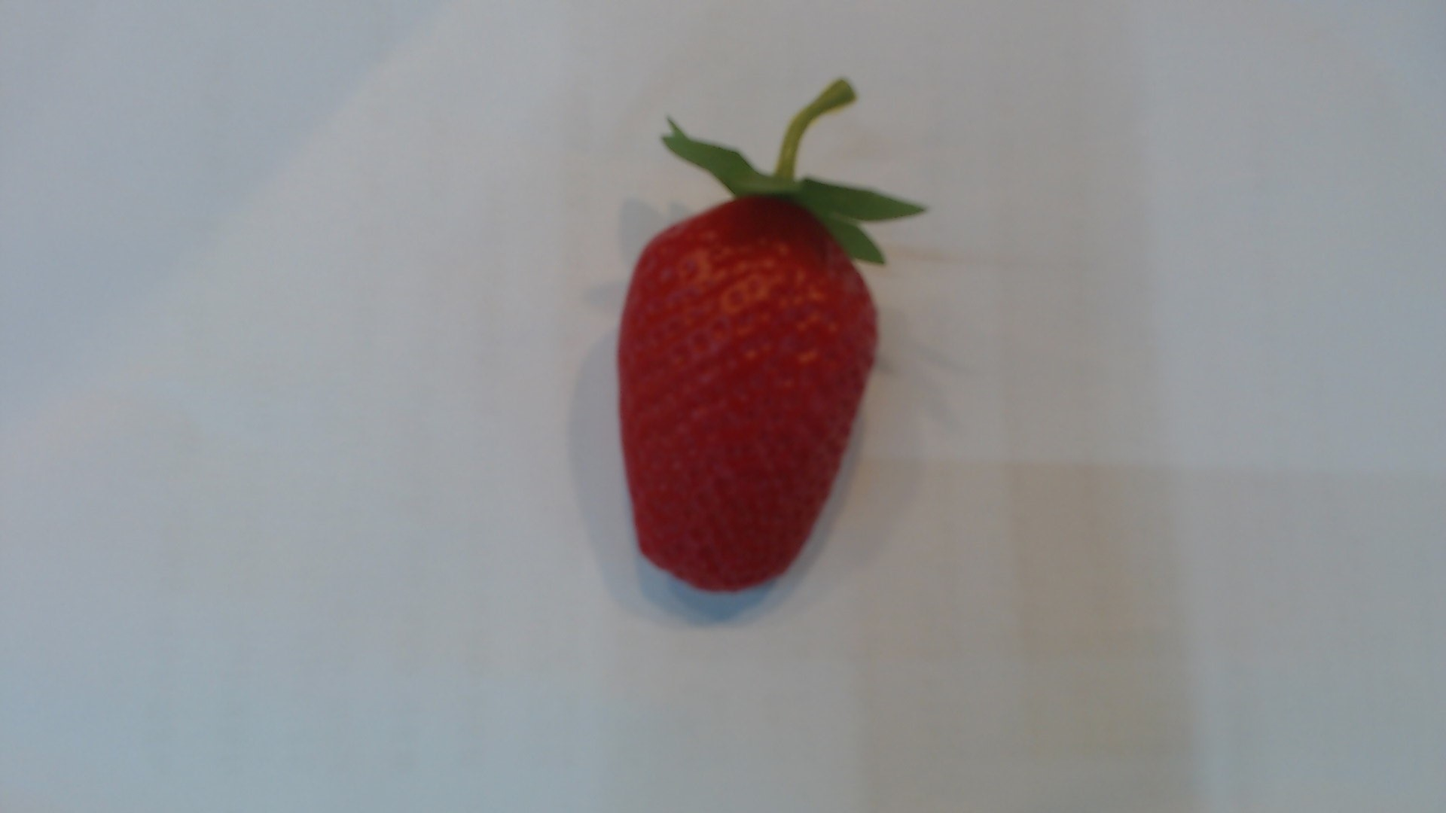strawberry: (606, 171, 893, 613)
